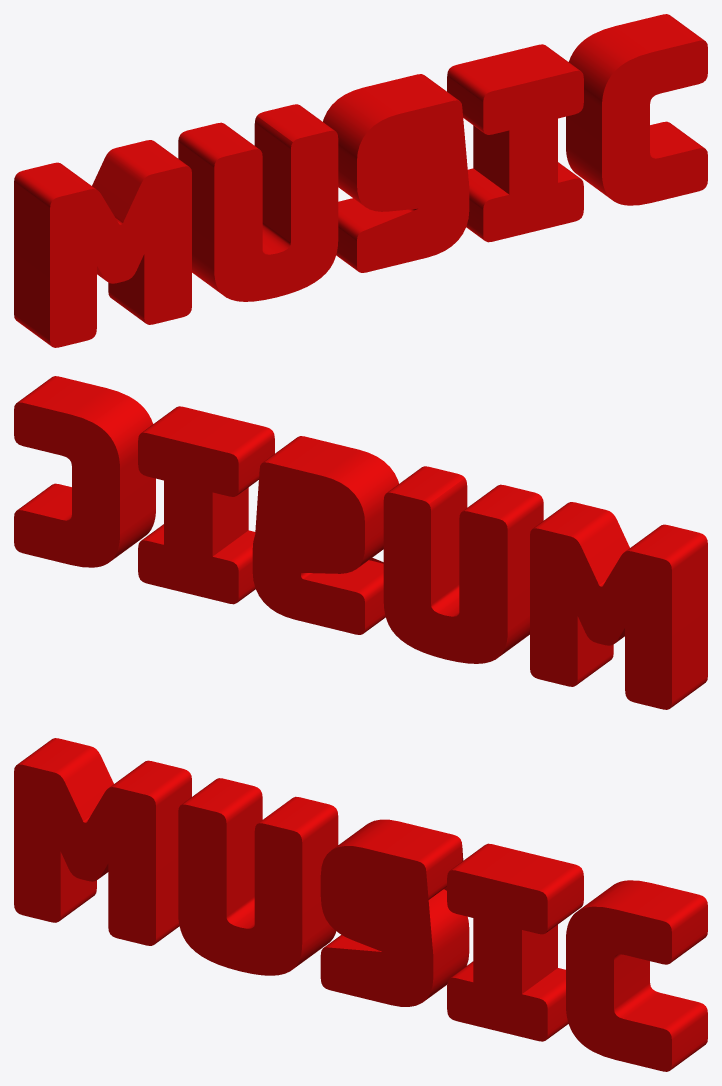
File: music.fbx
The picture shows the model from 3 angles, top to bottom: view 1: azimuth 30°, elevation 25°; view 2: azimuth 150°, elevation 25°; view 3: azimuth 330°, elevation 25°; orthographic projection.
Visible parts, largest first — view 1: typeMesh1; view 2: typeMesh1; view 3: typeMesh1.
Part boxes in pixels (x1,y1,x2,y2): typeMesh1: (14, 14, 707, 347); typeMesh1: (14, 376, 707, 709); typeMesh1: (14, 738, 707, 1071).
Size of the model in its own units: 18.24 by 4.07 by 1.73.
